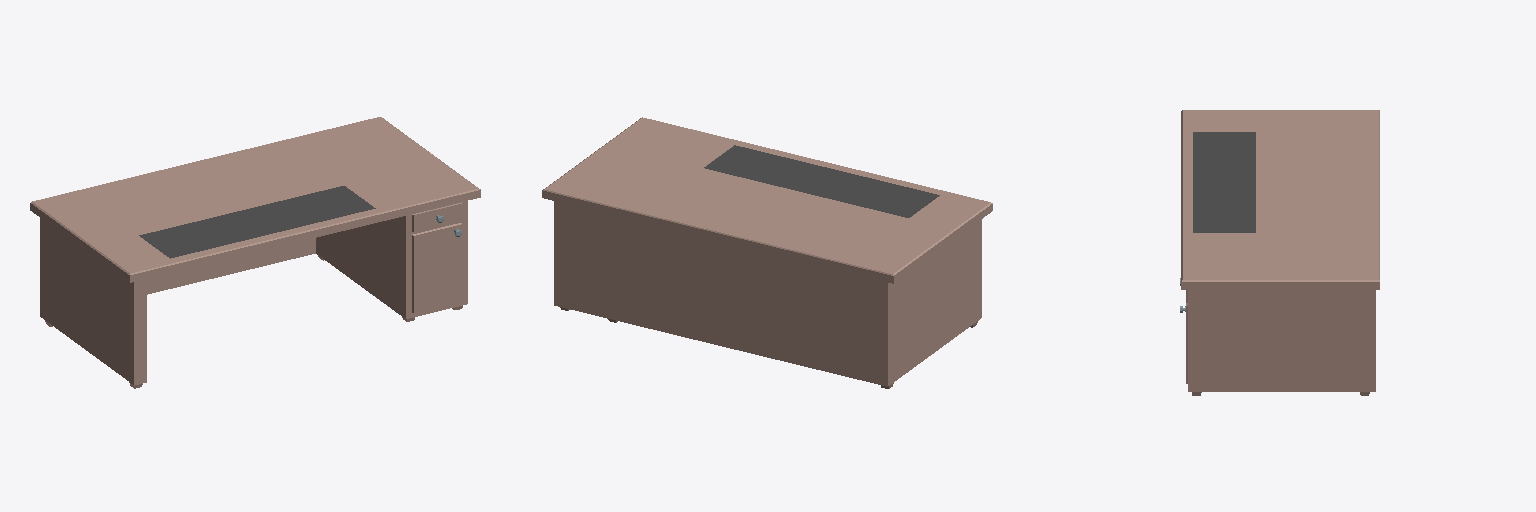
The picture shows the model from 3 angles: view 1: azimuth 30°, elevation 25°; view 2: azimuth 150°, elevation 25°; view 3: azimuth 270°, elevation 25°; orthographic projection.
Visible parts, largest first — view 1: Desk_01_Cube.037; view 2: Desk_01_Cube.037; view 3: Desk_01_Cube.037.
Part boxes in pixels (x1,y1,x2,y2): Desk_01_Cube.037: (30, 117, 480, 388); Desk_01_Cube.037: (542, 117, 992, 388); Desk_01_Cube.037: (1180, 110, 1379, 395).
Bounding box in the file's own units: 7.51 × 2.47 × 3.71.
3 materials, 1 textured.